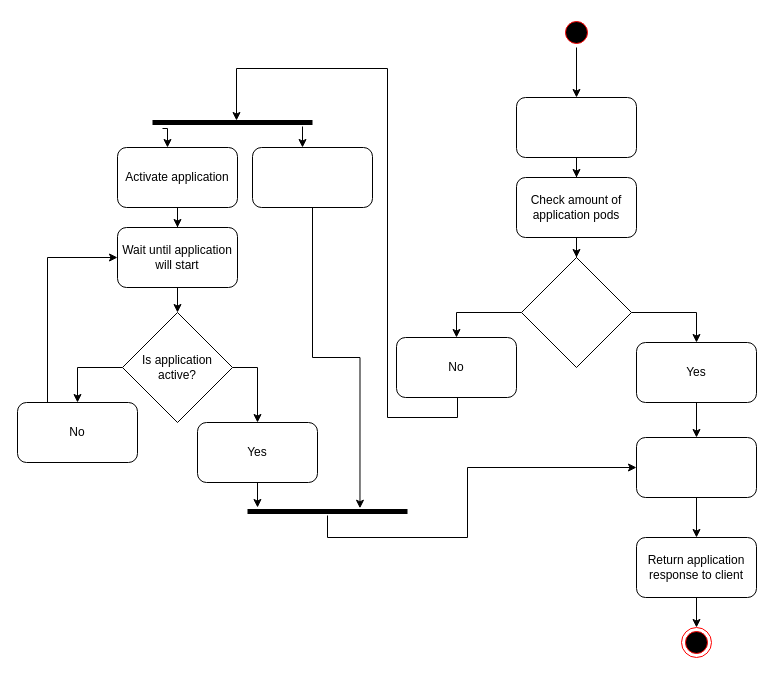
This 774x675 diagram has some shape labels left out. Here are the shapes that lost their labels. From the top down, the centre of each, then its label:
At pixel 576 127: "Receive request to Application".
At pixel 312 177: "Buffer request".
At pixel 576 312: "Application has active pods?".
At pixel 696 467: "Pass request to application".
